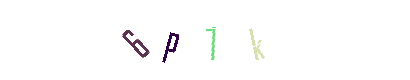6: (111, 0, 191, 80)
7: (165, 0, 245, 80)
K: (209, 0, 289, 80)
P: (165, 0, 245, 80)
